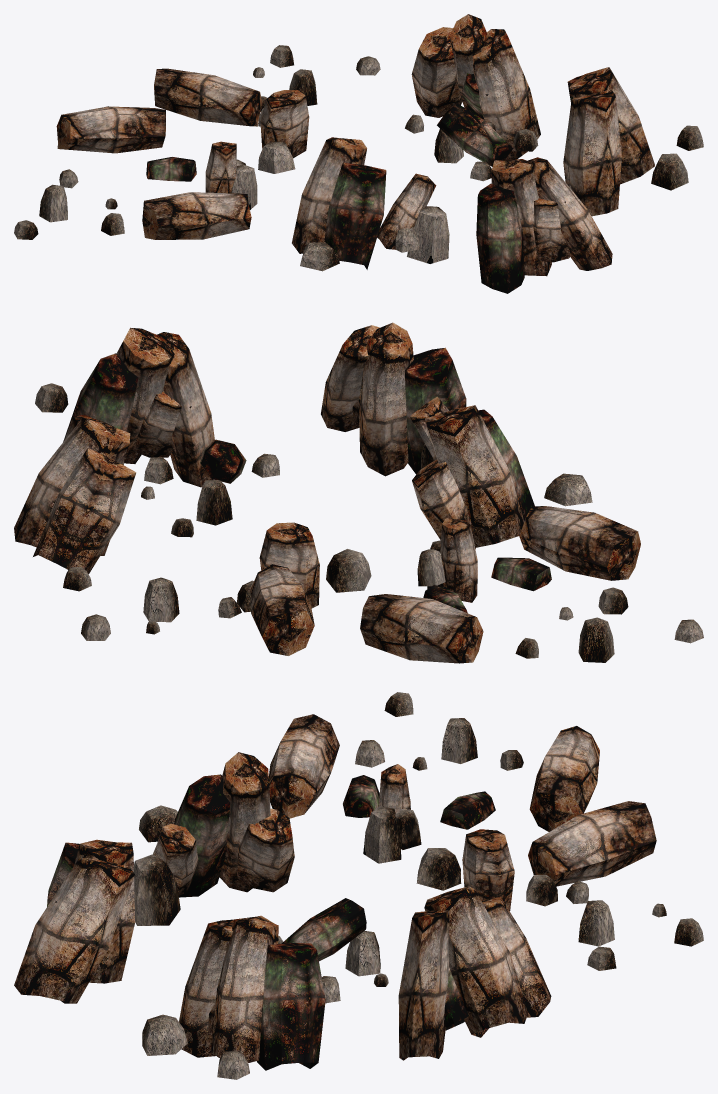
Rendered from thm_dant_large_rock_communal_dest_s01_l0.fbx.
The picture shows the model from 3 angles, top to bottom: view 1: azimuth 30°, elevation 25°; view 2: azimuth 150°, elevation 25°; view 3: azimuth 270°, elevation 25°; orthographic projection. The views are drawn at different scales.
Visible parts, largest first — view 1: mesh_node; view 2: mesh_node; view 3: mesh_node.
Part boxes in pixels (x1,y1,x2,y2): mesh_node: (14,14,703,293); mesh_node: (14,322,703,663); mesh_node: (14,692,703,1079).
Size of the model in its own units: 54.89 by 11.2 by 43.17.
